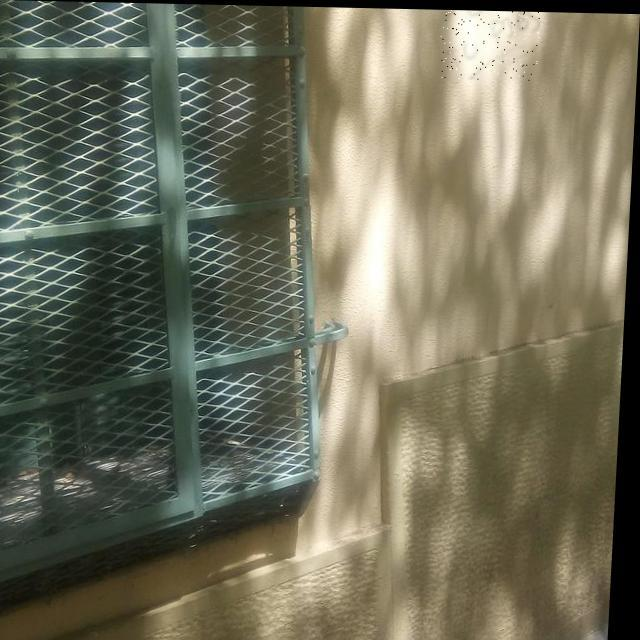-: (439, 8, 541, 78)
